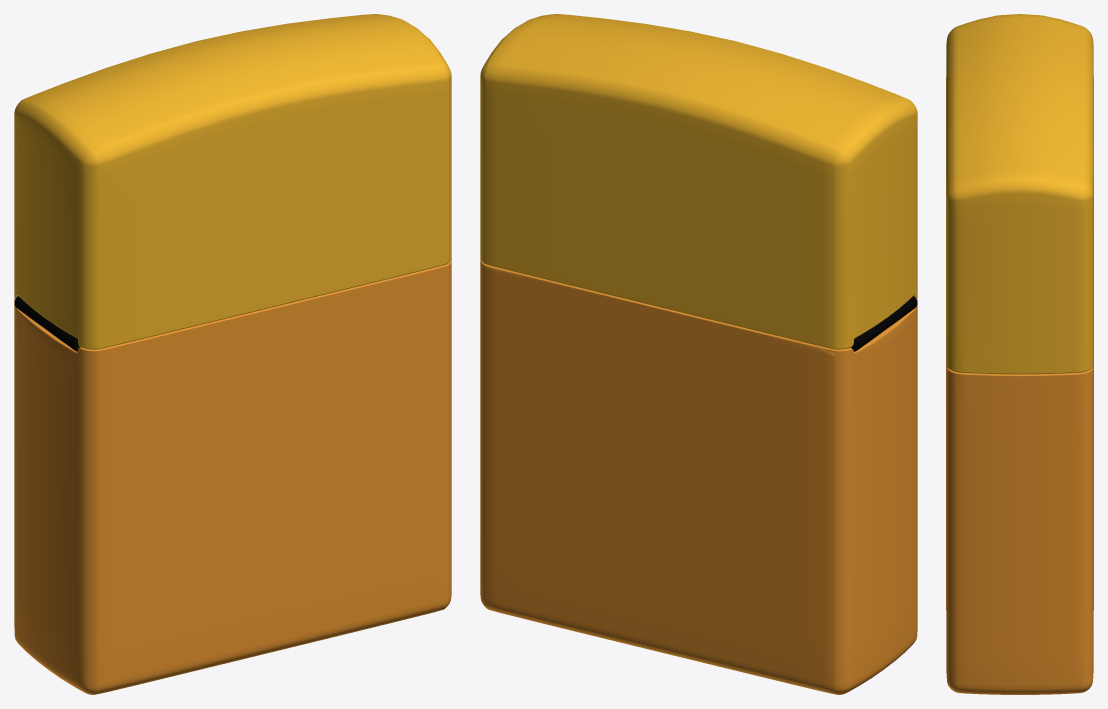
The model's file is LighterOpti.glb.
3 views of the same model, side by side, from view 1: azimuth 30°, elevation 25°; view 2: azimuth 150°, elevation 25°; view 3: azimuth 270°, elevation 25° (orthographic). The views are drawn at different scales.
Parts seen in each view (by area): view 1: BottomCase, Lid; view 2: BottomCase, Lid; view 3: Lid, BottomCase.
Part boxes in pixels (left/top/right/bottom): BottomCase: left=14, top=260, right=451, bottom=694; Lid: left=14, top=14, right=451, bottom=349; BottomCase: left=480, top=259, right=917, bottom=694; Lid: left=480, top=14, right=917, bottom=349; Lid: left=946, top=14, right=1093, bottom=374; BottomCase: left=946, top=337, right=1093, bottom=694.
Size of the model in its own units: 220 by 318 by 80.16.
